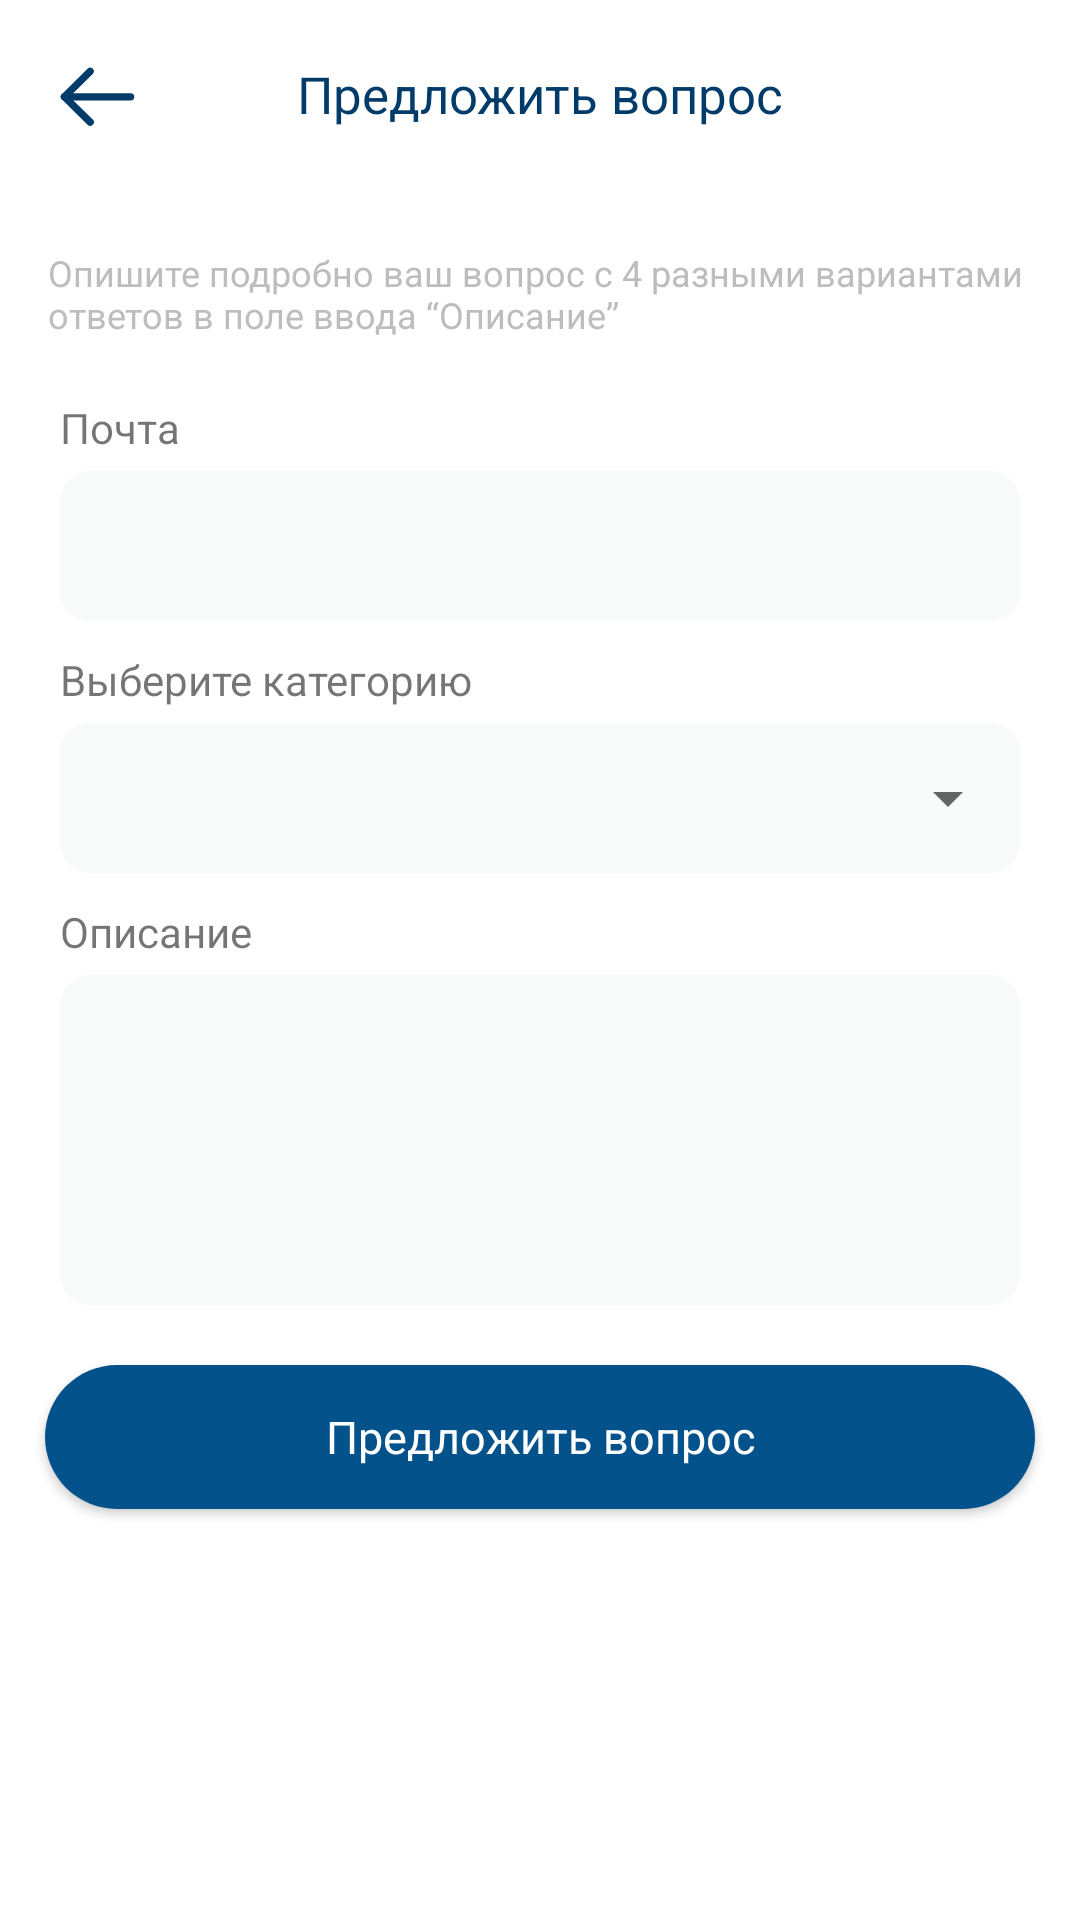

Icons on this 1080x1920 Android screen, each with its box as (x1, y1, x2, y2):
back cursor: (60, 67, 135, 126)
